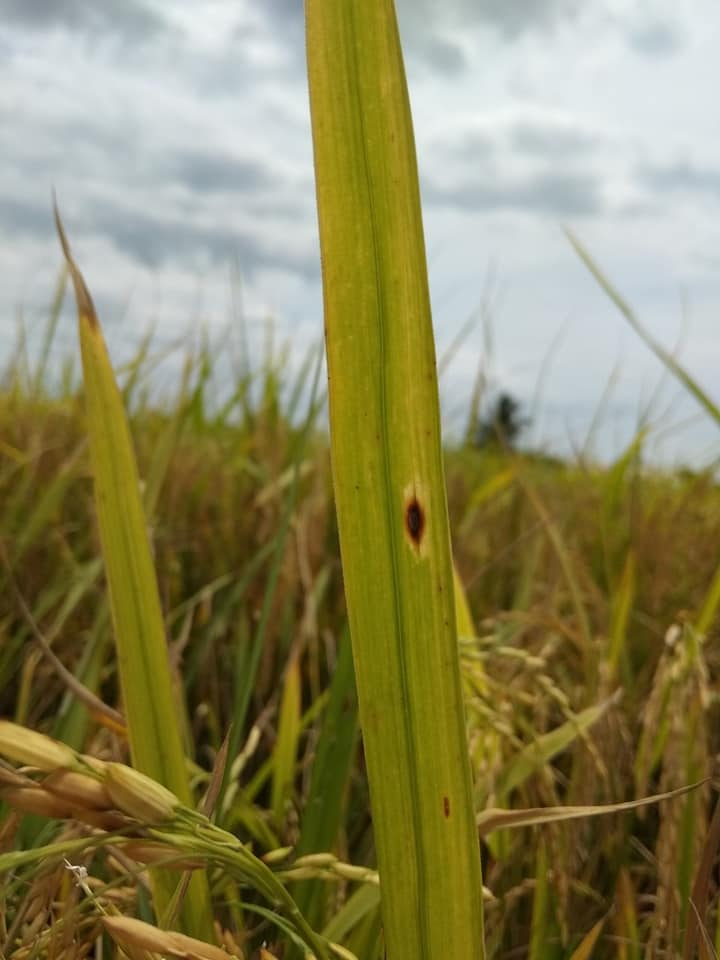Bercak Coklat: (390, 478, 442, 578), (426, 775, 472, 819)
